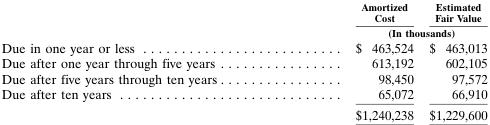table: (0, 0, 486, 122)
table column: (0, 0, 285, 122), (285, 0, 420, 122), (420, 0, 486, 122)
table column header: (0, 0, 486, 39)
table row: (0, 0, 486, 24), (0, 85, 486, 104), (0, 104, 486, 122), (0, 54, 486, 70), (0, 24, 486, 39), (0, 39, 486, 54), (0, 70, 486, 85)
table spanning cell: (285, 24, 486, 39)
